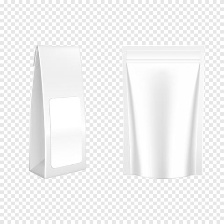snack: (115, 38, 209, 183), (22, 38, 93, 183)
